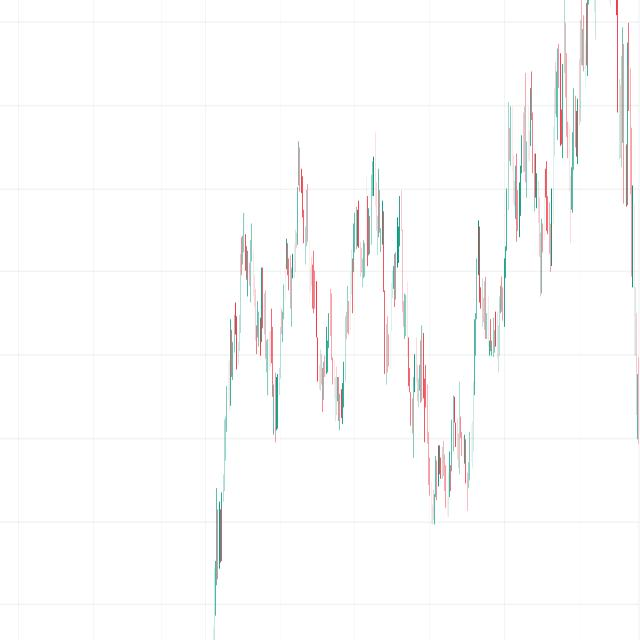Triple-Bottom: (422, 419, 482, 528)
Triple-Top: (218, 115, 390, 441)
